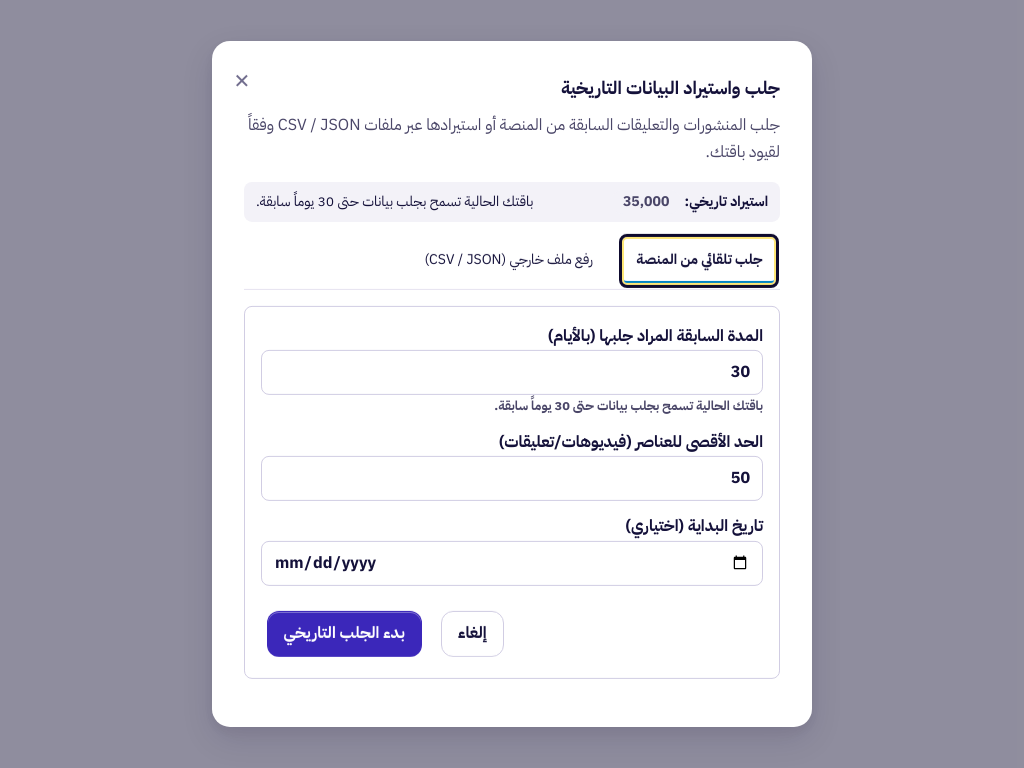
HistoricalImportModal › switches to file tab and allows downloading sample template
Click the button with test id "tab-file-import": coordinates (509, 261) [412,239,605,283]
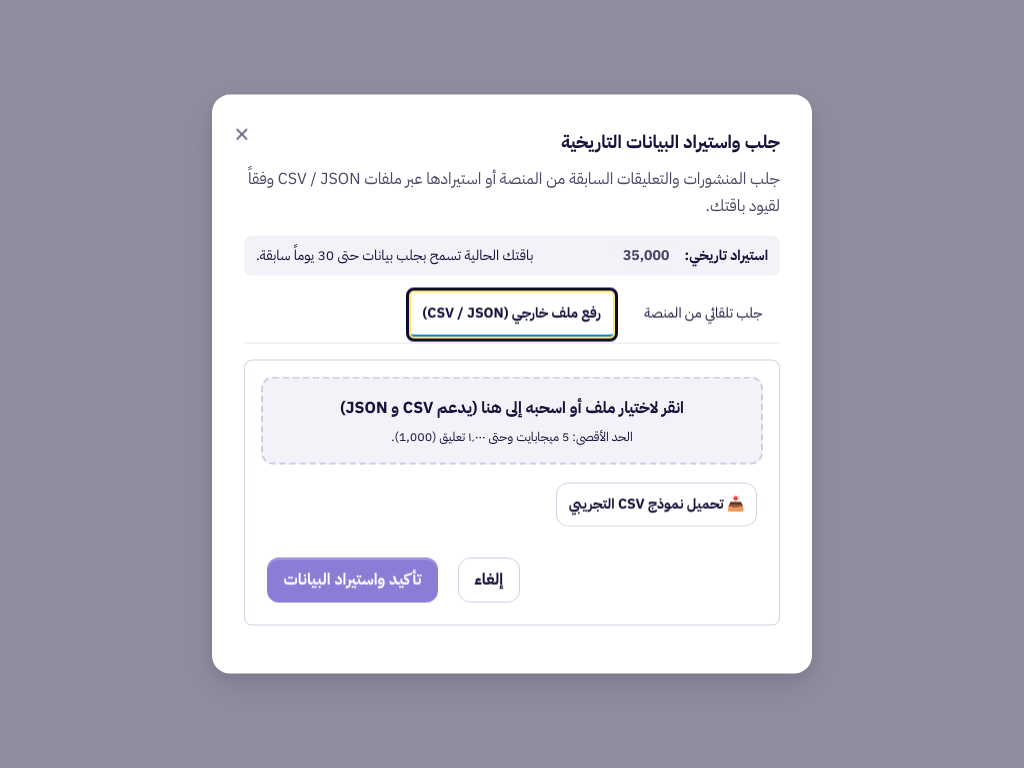
Check: the button with test id "btn-download-template" is shown, box [556,482,757,526]
Check: the element with test id "input-file-import" is shown, box [261,376,763,465]
